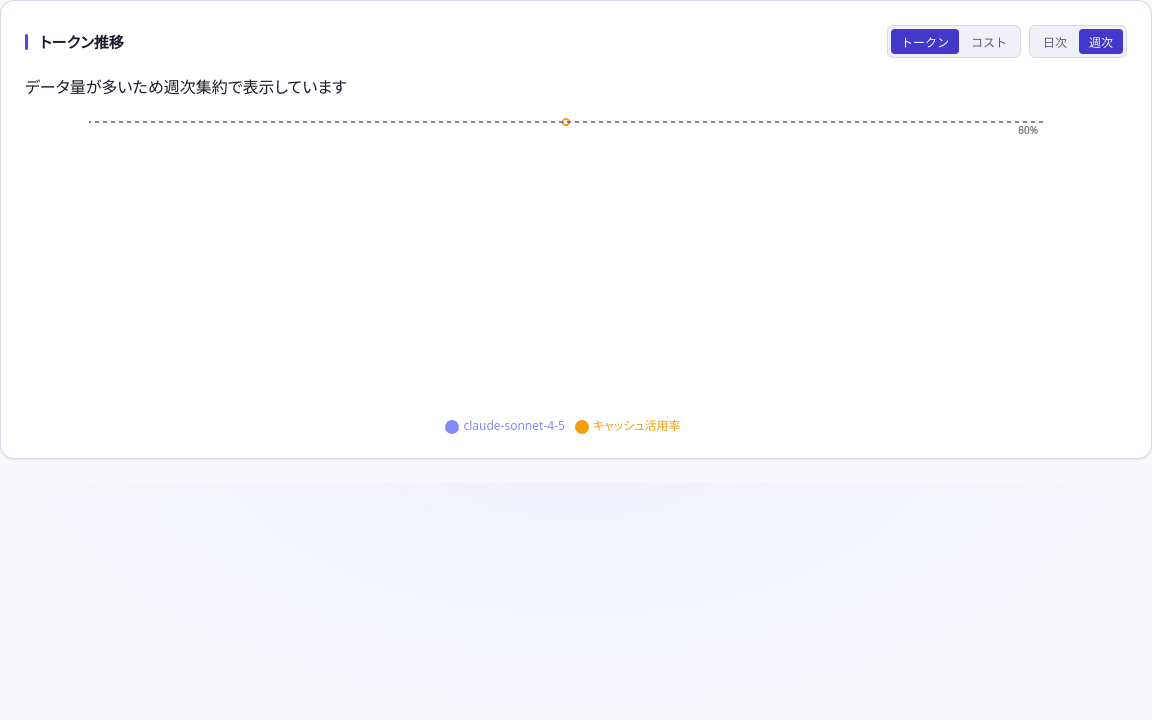
it: 週次集約バナー › period='90d' で手動日次切替するとバナーが消える
This screenshot has width=1152, height=720.
Check: the text "データ量が多いため週次集約で表示しています" is shown, box [25,76,347,98]
Click the button "日次": click(1055, 42) [1033,29,1077,54]
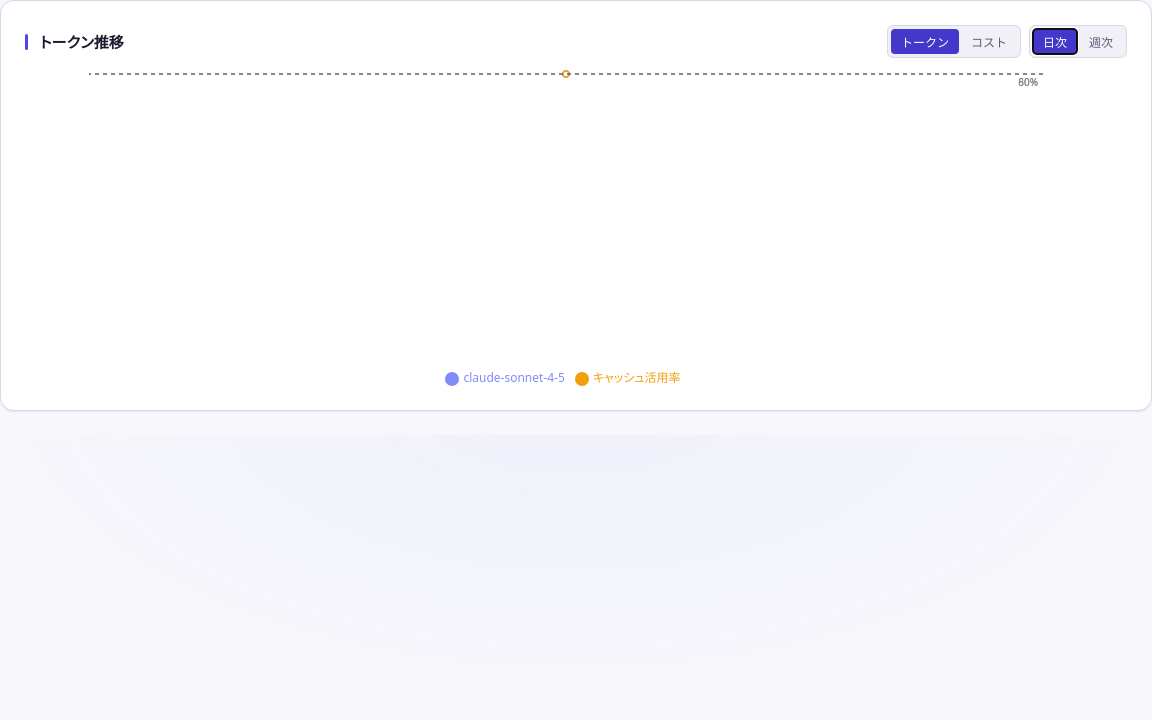
Check: the text "データ量が多いため週次集約で表示しています" is gone
